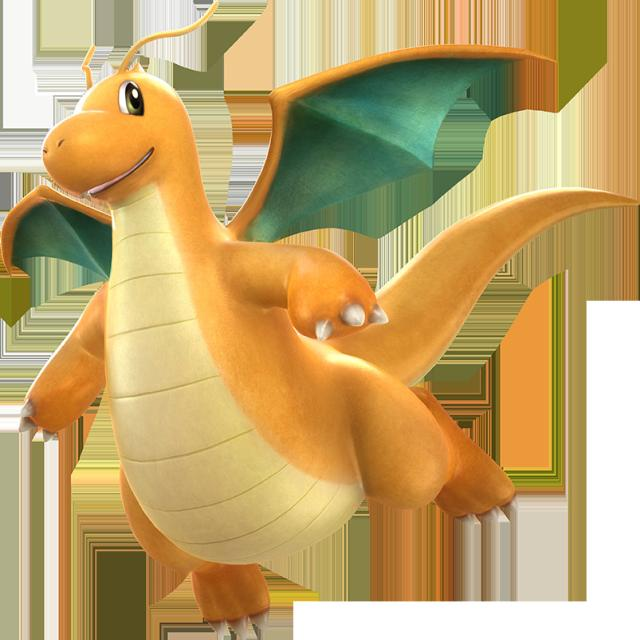Dragonite: (14, 31, 534, 561)
